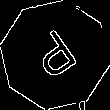P_SE: (25, 24, 85, 86)
